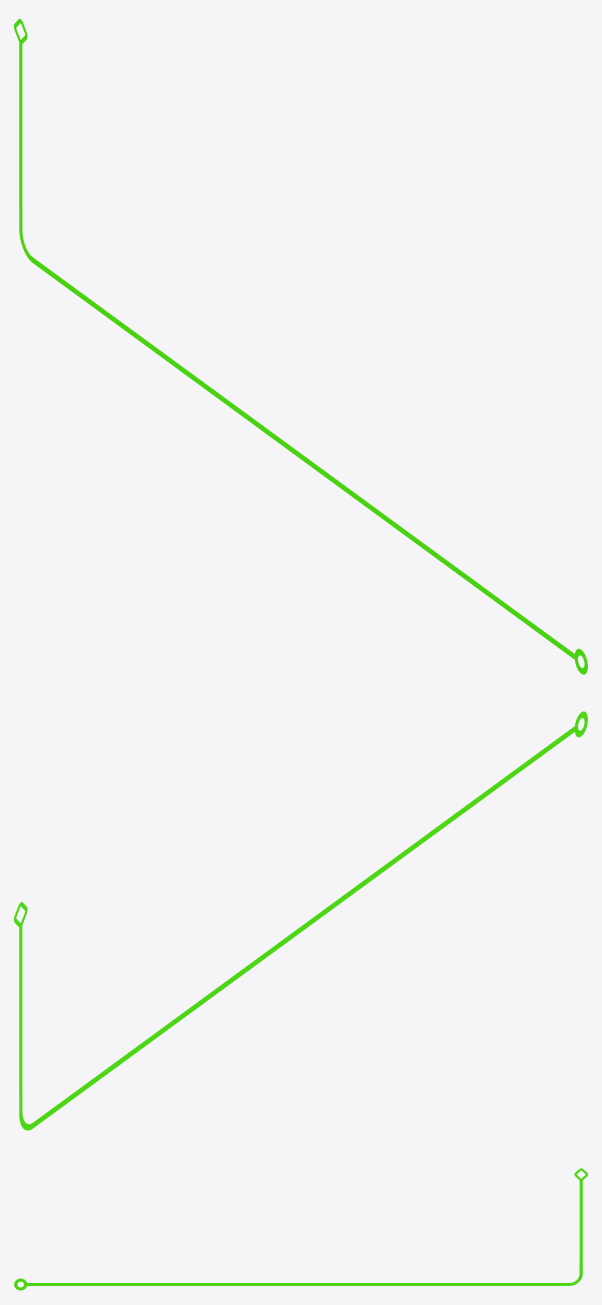
File: 5_1_cl_active.glb
The picture shows the model from 3 angles, top to bottom: view 1: azimuth 30°, elevation 25°; view 2: azimuth 150°, elevation 25°; view 3: azimuth 270°, elevation 25°; orthographic projection. The views are drawn at different scales.
Visible parts, largest first — view 1: 5_1_cl_active; view 2: 5_1_cl_active; view 3: 5_1_cl_active.
Boxes of the visible parts, <box> form: 5_1_cl_active: <box>14,18,587,674</box>; 5_1_cl_active: <box>14,711,587,1130</box>; 5_1_cl_active: <box>14,1168,587,1290</box>.
Bounding box in the file's own units: 4.06e-06 × 3.28 × 13.96.
Materials: 1 (1 with a texture image).
